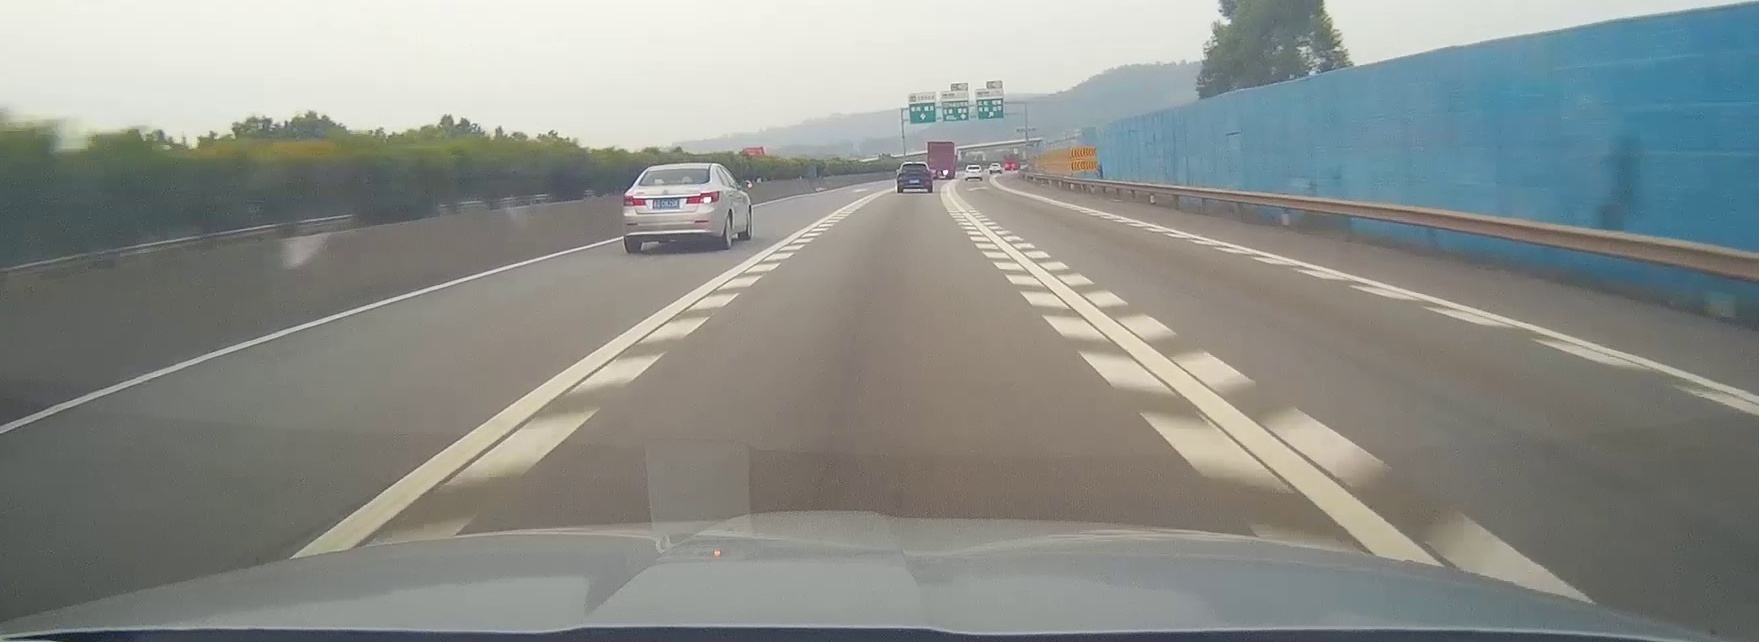L_light: (623, 195, 645, 207)
R_light: (687, 191, 719, 203)
T_light: (671, 169, 684, 172)
day-right: (621, 164, 720, 253)
